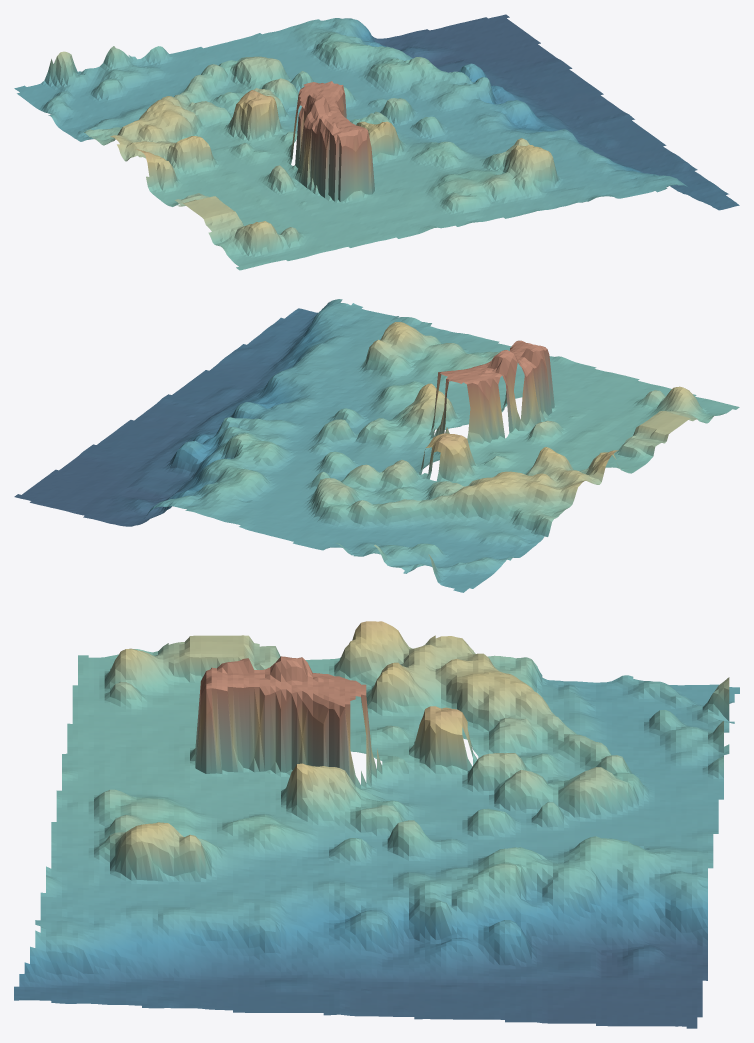
Rendered from oma084_mesh_photo.glb.
3 renders of one model, top to bottom at view 1: azimuth 30°, elevation 25°; view 2: azimuth 150°, elevation 25°; view 3: azimuth 270°, elevation 25°, orthographic. The views are drawn at different scales.
Parts seen in each view (by area): view 1: world; view 2: world; view 3: world.
Boxes of the visible parts, x1,y1,x2,y2 form: world: (14, 14, 739, 270); world: (14, 299, 739, 592); world: (14, 621, 739, 1028).
Bounding box in the file's own units: 213 × 47.3 × 204.
